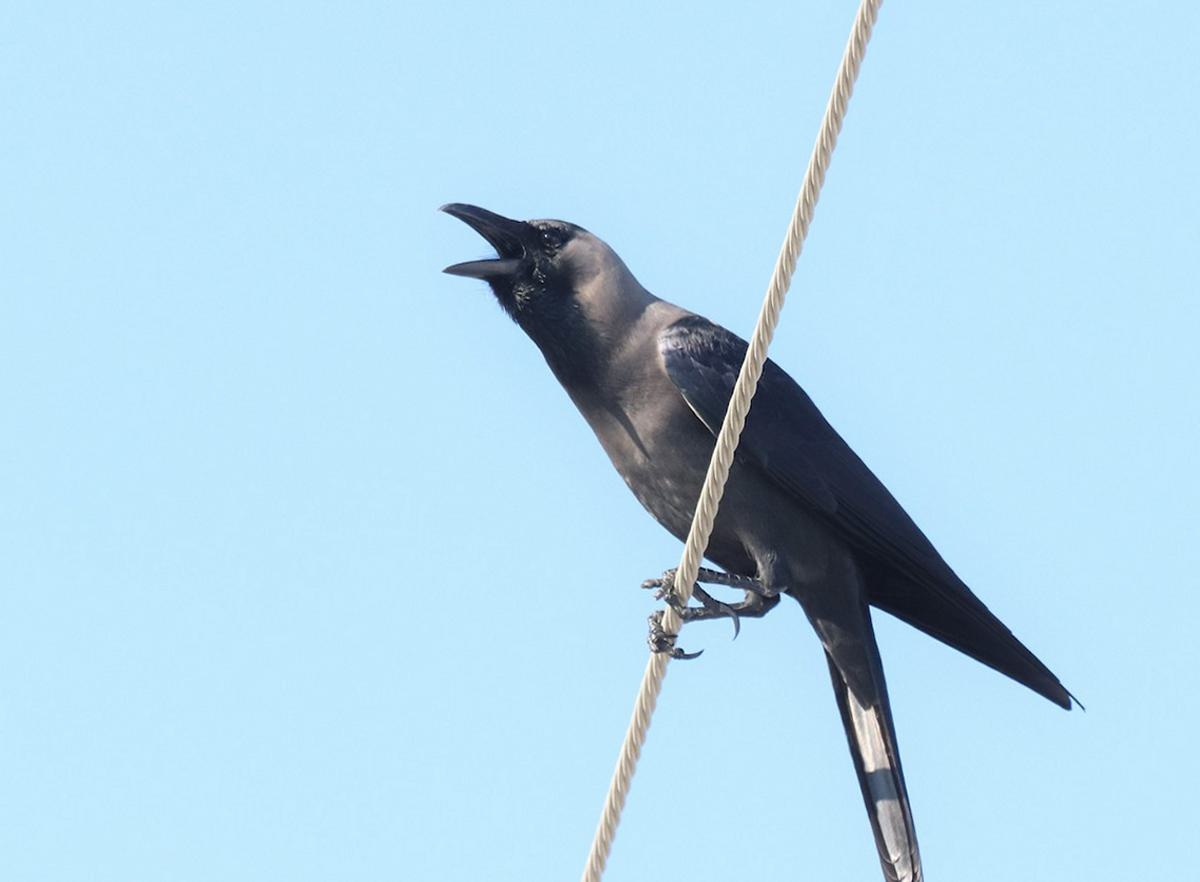crow: (434, 167, 1089, 882)
